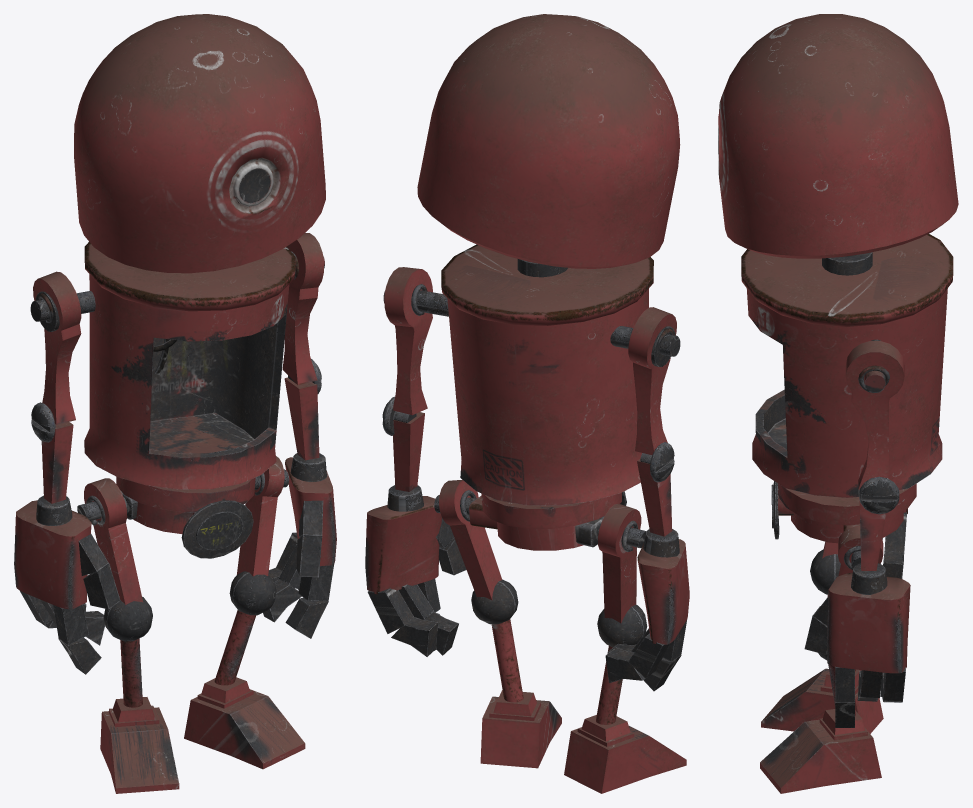
File: robot0.glb
3 views of the same model, side by side, from view 1: azimuth 30°, elevation 25°; view 2: azimuth 150°, elevation 25°; view 3: azimuth 270°, elevation 25° (orthographic).
Visible parts, largest first — view 1: g polySurface10_polySurface10_1001; view 2: g polySurface10_polySurface10_1001; view 3: g polySurface10_polySurface10_1001.
Part boxes in pixels (left/top/right/bottom): g polySurface10_polySurface10_1001: left=14, top=14, right=336, bottom=793; g polySurface10_polySurface10_1001: left=365, top=14, right=689, bottom=793; g polySurface10_polySurface10_1001: left=718, top=14, right=958, bottom=793.
Bounding box in the file's own units: 0.6599 × 1.49 × 0.4459.
1 material, 1 textured.
